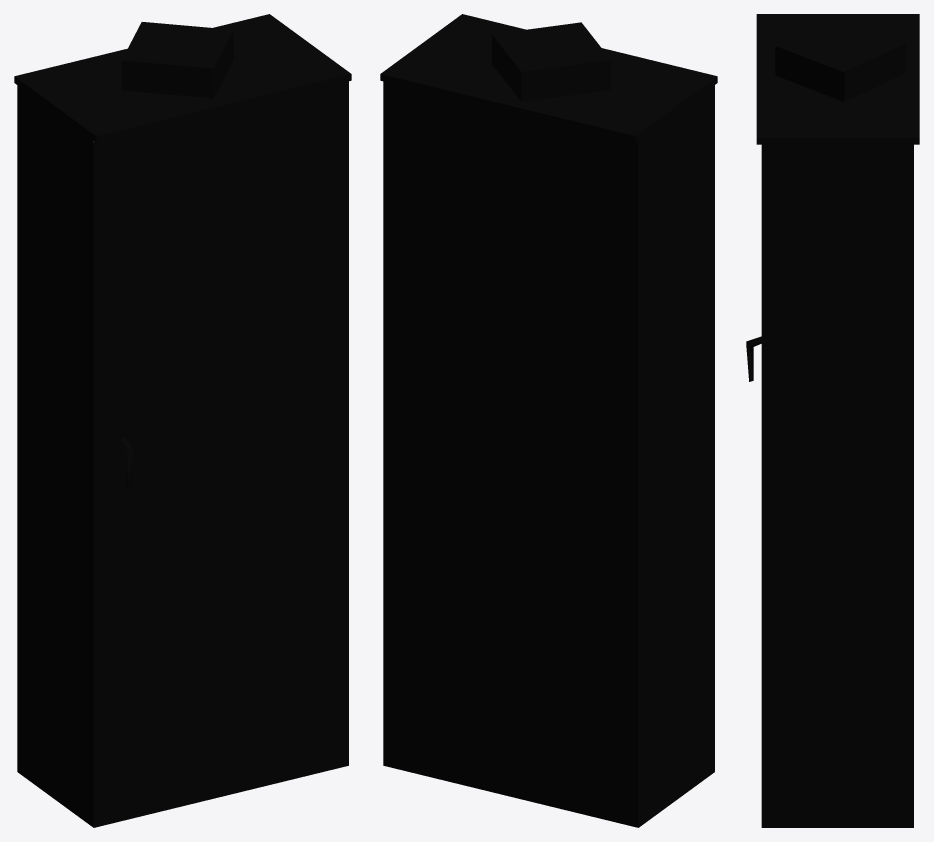
File: M_RooftopBoxes_01c.dae
The picture shows the model from 3 angles, left to right: view 1: azimuth 30°, elevation 25°; view 2: azimuth 150°, elevation 25°; view 3: azimuth 270°, elevation 25°; orthographic projection.
Visible parts, largest first — view 1: S_RooftopBoxes_01c.003; view 2: S_RooftopBoxes_01c.003; view 3: S_RooftopBoxes_01c.003.
Boxes of the visible parts, x1=… form: S_RooftopBoxes_01c.003: x1=14, y1=14, x2=351, y2=827; S_RooftopBoxes_01c.003: x1=380, y1=14, x2=717, y2=827; S_RooftopBoxes_01c.003: x1=746, y1=14, x2=919, y2=827.
Bounding box in the file's own units: 0.64 × 0.3786 × 1.73.
